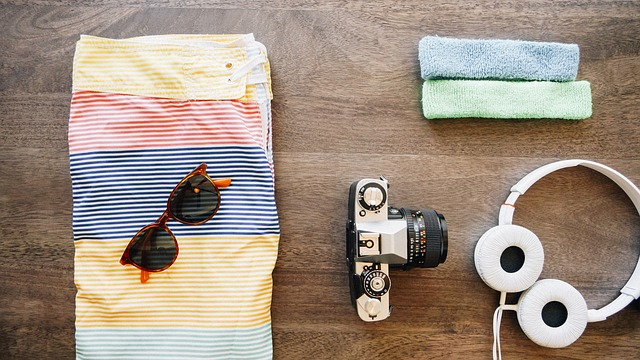headphones: (475, 160, 640, 349)
